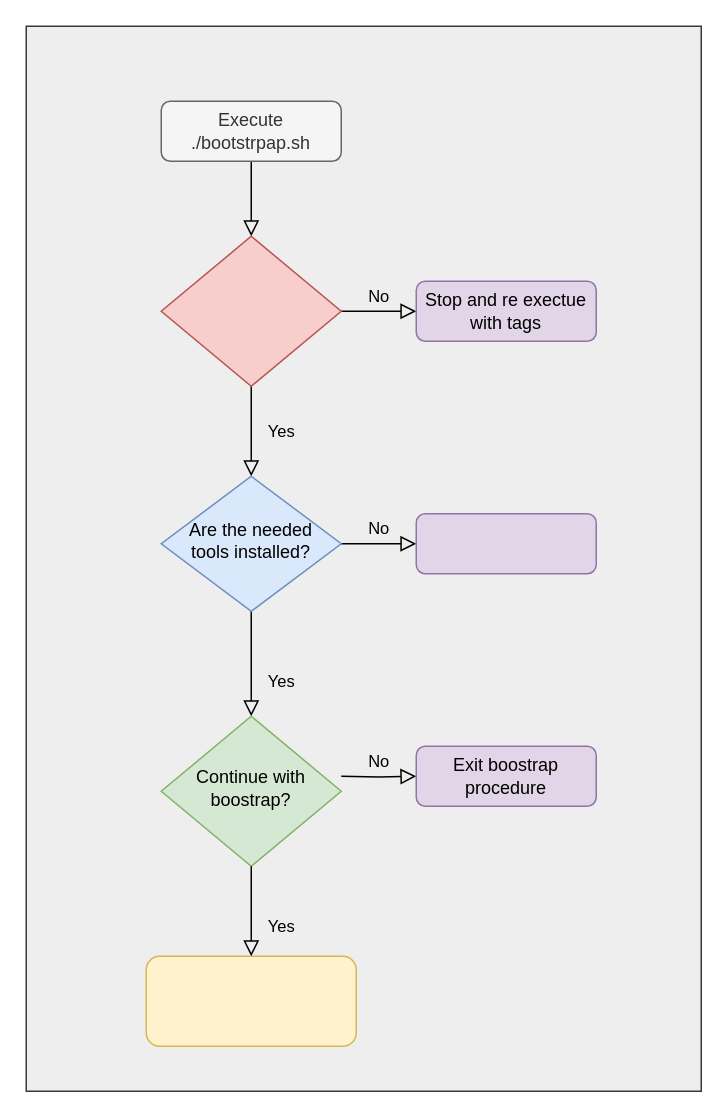
This 728x1118 diagram has some shape labels left out. The centre of each missing label's shape, as x and y in pixels:
Apply Ansible roles based on main playbook: the point at 250,1000
Fresh installation?: the point at 250,310
Re execute with /.bootstrp.sh --install-packages: the point at 505,543
